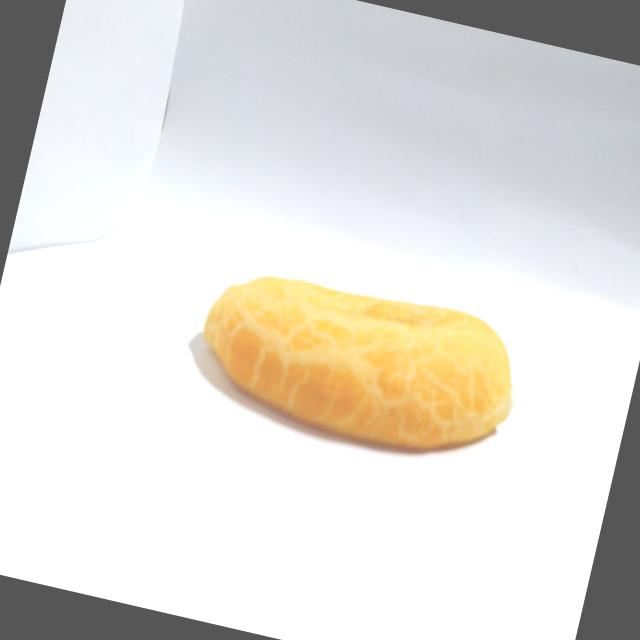Chipa: (172, 236, 544, 487)
